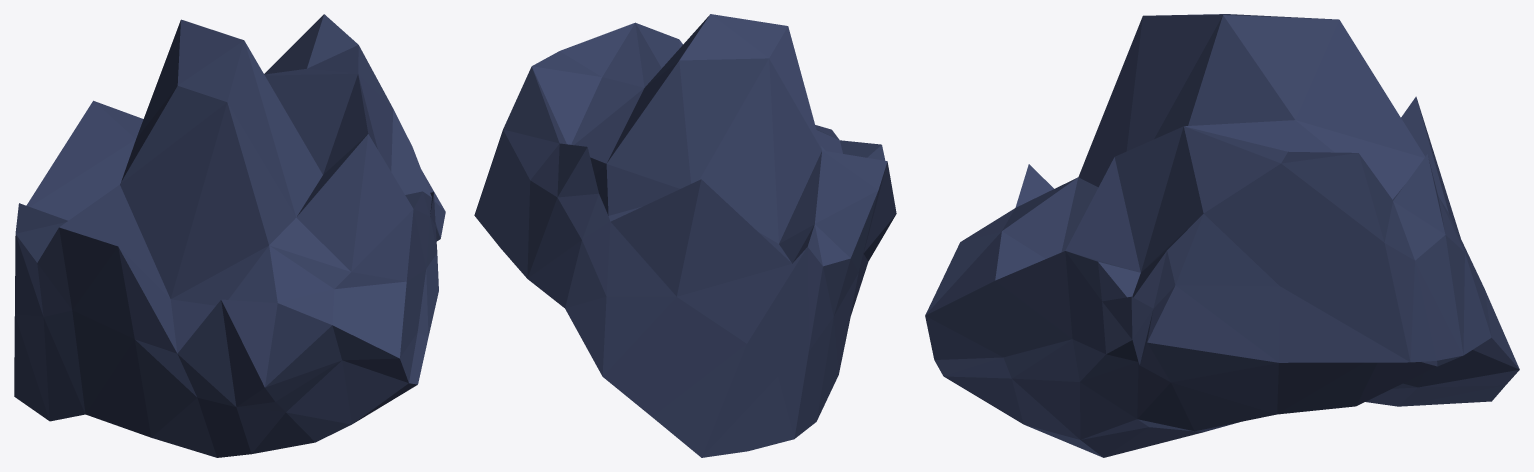
File: Spikestone 4.fbx
The picture shows the model from 3 angles, left to right: view 1: azimuth 30°, elevation 25°; view 2: azimuth 150°, elevation 25°; view 3: azimuth 270°, elevation 25°; orthographic projection. The views are drawn at different scales.
Parts seen in each view (by area): view 1: Spikestone Size 4; view 2: Spikestone Size 4; view 3: Spikestone Size 4.
Boxes of the visible parts, bbox=[...] form: Spikestone Size 4: bbox=[14, 14, 445, 457]; Spikestone Size 4: bbox=[474, 14, 896, 457]; Spikestone Size 4: bbox=[925, 14, 1519, 457].
Size of the model in its own units: 524 by 519 by 625.
